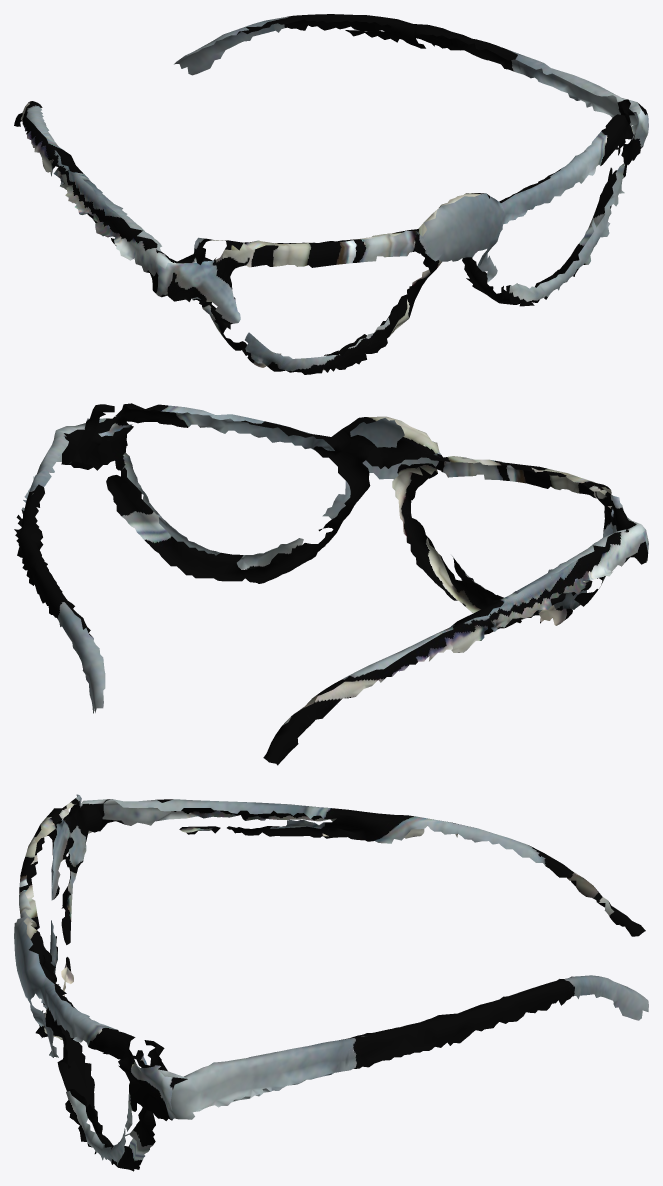
Rendered from scan_align.obj.
3 renders of one model, top to bottom at view 1: azimuth 30°, elevation 25°; view 2: azimuth 150°, elevation 25°; view 3: azimuth 270°, elevation 25°, orthographic. The views are drawn at different scales.
Bounding box in the file's own units: 0.1465 × 0.0416 × 0.138.
